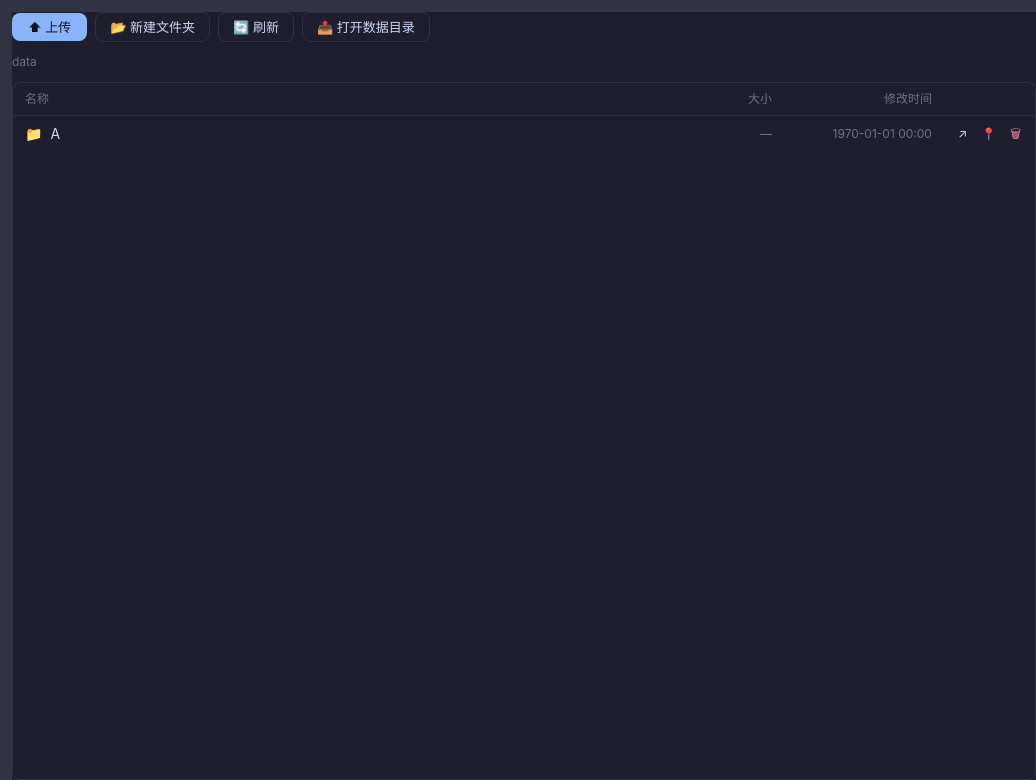
Scenario: §311 ④ 文件页：回上一级后旧目录那份列表不许挂在新路径下 › 进目录 A 再点面包屑回根目录 ⇒ A 的迟到列表不许画出来，也不许替新目录关掉「加载中」
The image size is (1036, 780).
Click the text "A" at (55, 134), box [50, 124, 60, 144]
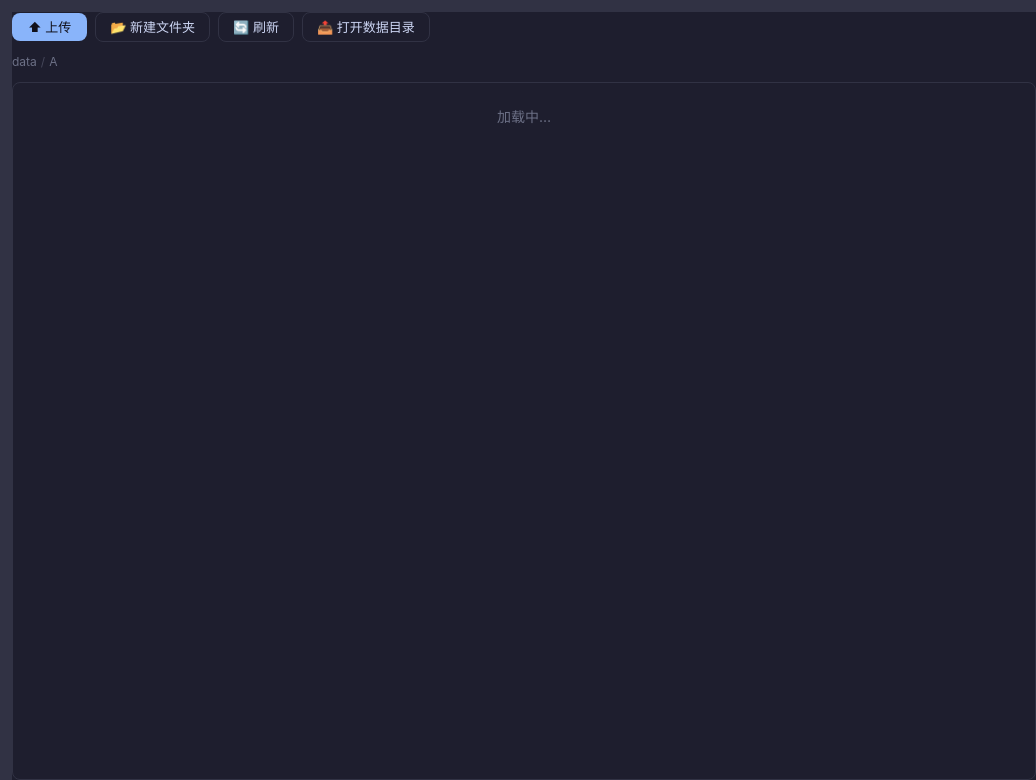
Click the button "data" at (24, 62), box [12, 54, 37, 70]
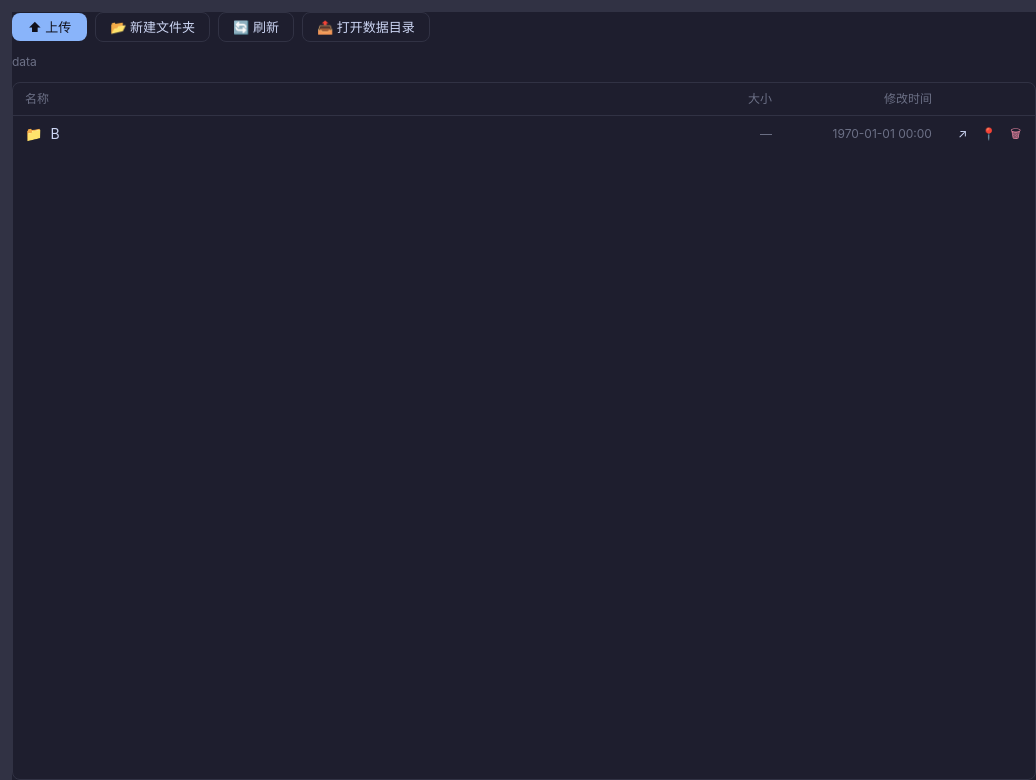
Expected: the text "B" is shown, [50, 124, 60, 144]
